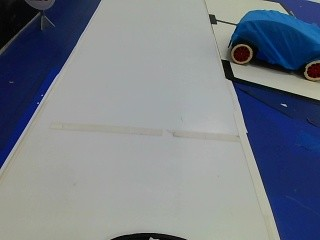car: (221, 7, 318, 77)
